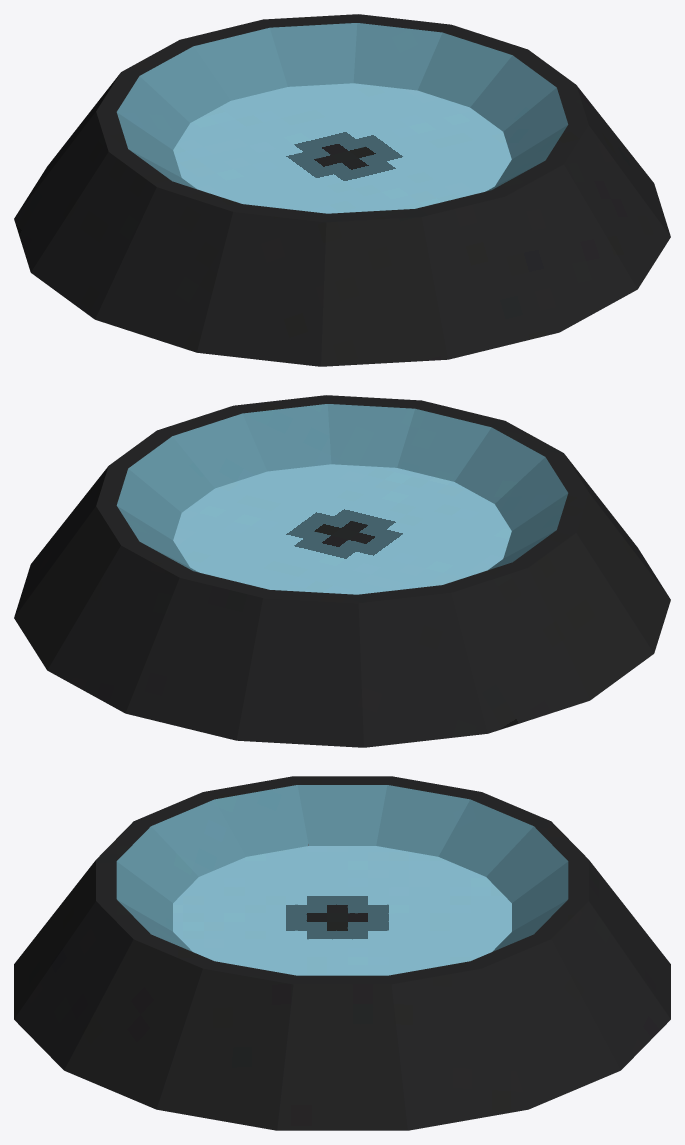
The model's file is Bubble_Stand.gltf.
3 renders of one model, top to bottom at view 1: azimuth 30°, elevation 25°; view 2: azimuth 150°, elevation 25°; view 3: azimuth 270°, elevation 25°, orthographic.
Parts seen in each view (by area): view 1: circle; view 2: circle; view 3: circle.
Boxes of the visible parts, x1,y1,x2,y2 form: circle: (14, 14, 670, 366); circle: (14, 395, 670, 747); circle: (14, 776, 670, 1130).
Bounding box in the file's own units: 1 × 0.1875 × 1.
Materials: 1 (1 with a texture image).
